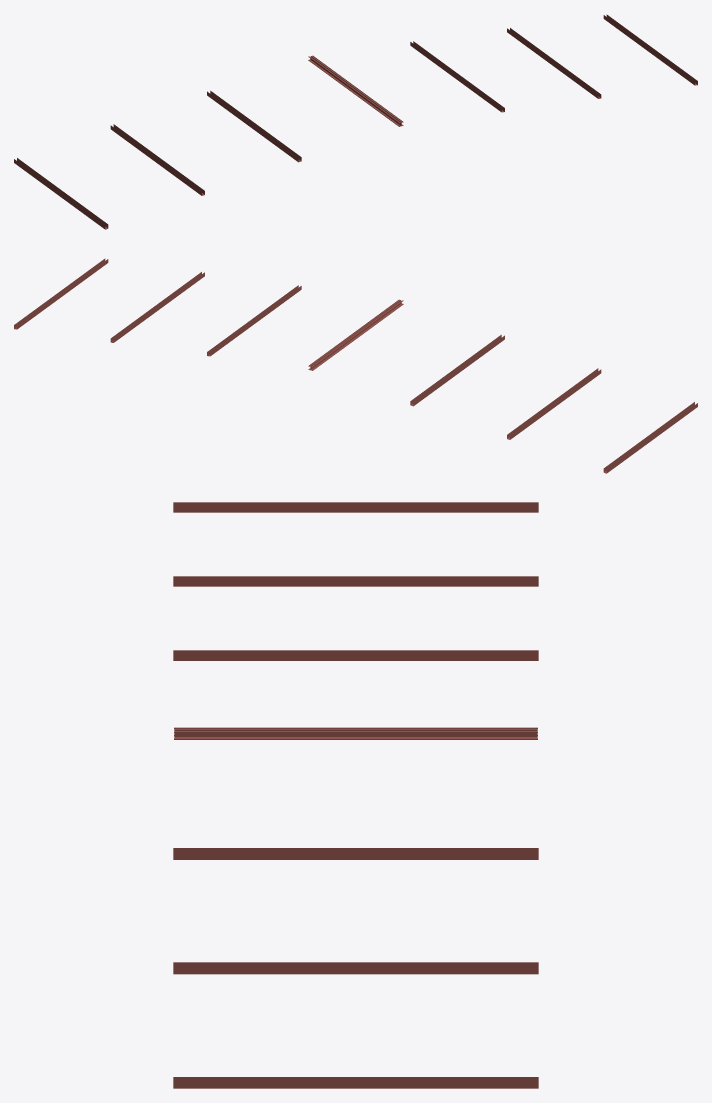
The model's file is Beam_Small.fbx.
3 views of the same model, one above another, from view 1: azimuth 30°, elevation 25°; view 2: azimuth 150°, elevation 25°; view 3: azimuth 270°, elevation 25° (orthographic). The views are drawn at different scales.
Visible parts, largest first — view 1: Beam_Small; view 2: Beam_Small; view 3: Beam_Small.
Boxes of the visible parts, box(x1,y1,x2,y2) form: Beam_Small: box(14, 14, 697, 229); Beam_Small: box(14, 258, 697, 473); Beam_Small: box(173, 502, 538, 1088).
Bounding box in the file's own units: 11358 × 639 × 3033.
